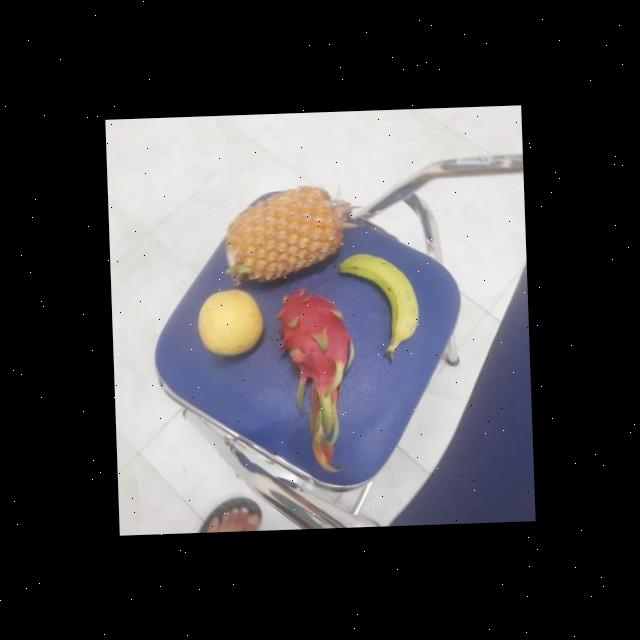banana: (334, 250, 420, 350)
pear: (192, 290, 264, 358)
pineapple: (218, 184, 346, 290)
pitaya: (268, 287, 356, 388)
